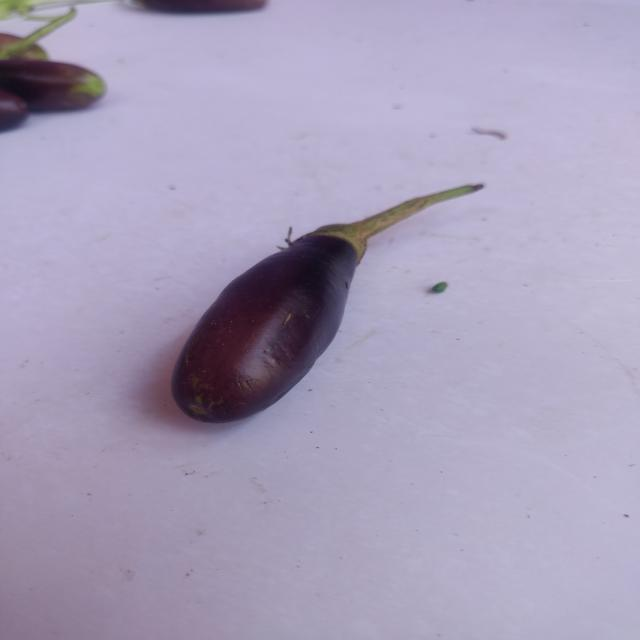Brinjal: (156, 181, 497, 434)
